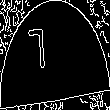L_S: (45, 28, 65, 82)
